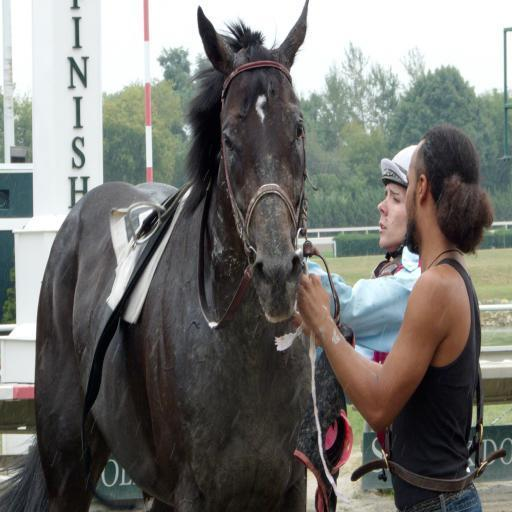horse: (0, 0, 309, 512)
